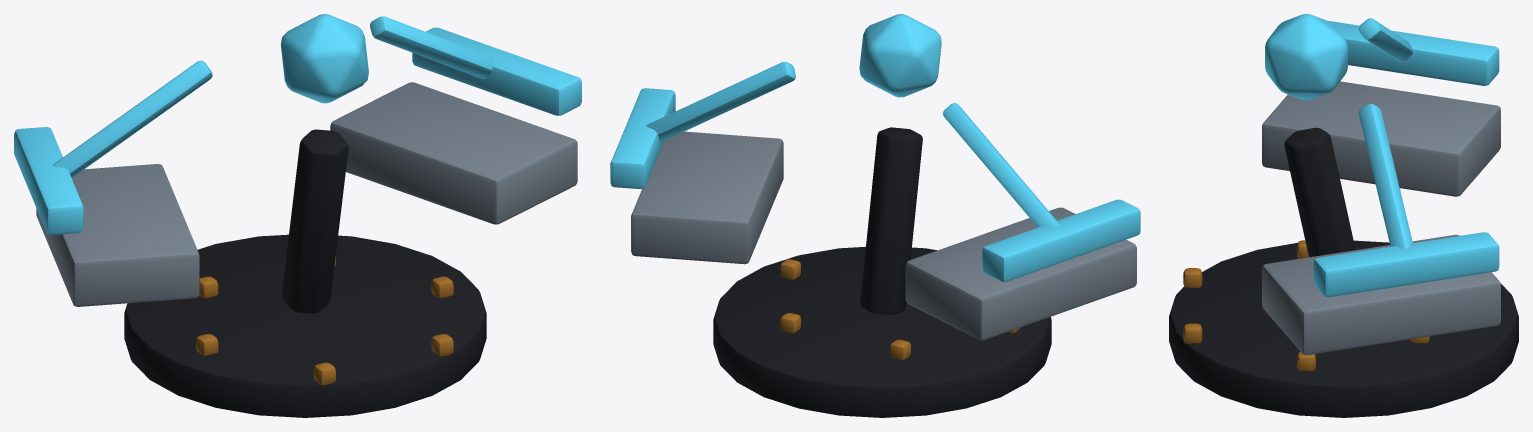
File: BranchB.obj
The picture shows the model from 3 angles, left to right: view 1: azimuth 30°, elevation 25°; view 2: azimuth 150°, elevation 25°; view 3: azimuth 270°, elevation 25°; orthographic projection. The views are drawn at different scales.
Parts seen in each view (by area): view 1: BranchB; view 2: BranchB; view 3: BranchB.
Boxes of the visible parts, x1,y1,x2,y2 form: BranchB: (14,14,581,417); BranchB: (610,14,1140,417); BranchB: (1169,14,1518,417).
Bounding box in the file's own units: 0.9537 × 0.5844 × 0.56.
